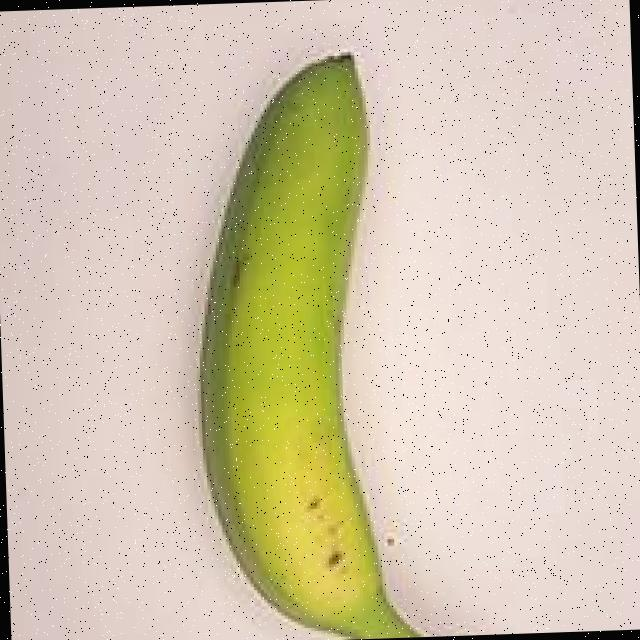Unripe: (144, 3, 519, 640)
